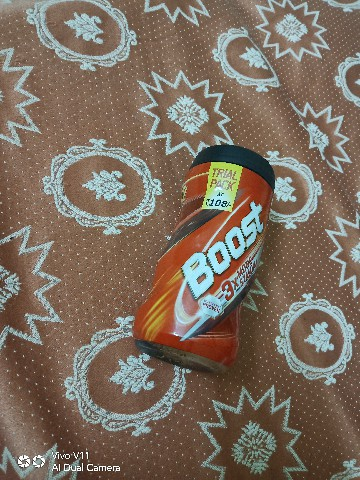boost small: (131, 129, 284, 418)
